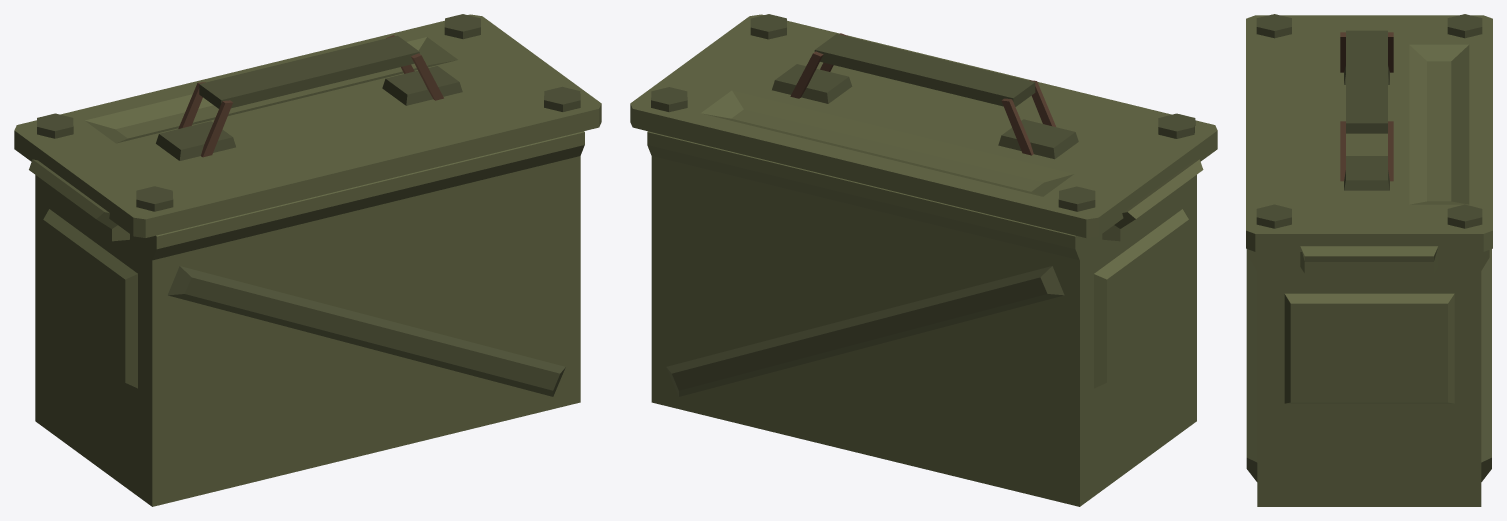
Rendered from SM_Prop_Ammo_Box_Open_01.fbx.
3 views of the same model, side by side, from view 1: azimuth 30°, elevation 25°; view 2: azimuth 150°, elevation 25°; view 3: azimuth 270°, elevation 25° (orthographic). The views are drawn at different scales.
Visible parts, largest first — view 1: SM_Prop_Ammo_Box_Open_01, SM_Prop_Ammo_Box_Open_Lid_01; view 2: SM_Prop_Ammo_Box_Open_01, SM_Prop_Ammo_Box_Open_Lid_01; view 3: SM_Prop_Ammo_Box_Open_01, SM_Prop_Ammo_Box_Open_Lid_01.
Boxes of the visible parts, bbox=[...] form: SM_Prop_Ammo_Box_Open_01: bbox=[29, 131, 584, 506]; SM_Prop_Ammo_Box_Open_Lid_01: bbox=[14, 14, 601, 237]; SM_Prop_Ammo_Box_Open_01: bbox=[647, 131, 1203, 506]; SM_Prop_Ammo_Box_Open_Lid_01: bbox=[630, 14, 1217, 238]; SM_Prop_Ammo_Box_Open_01: bbox=[1246, 246, 1491, 506]; SM_Prop_Ammo_Box_Open_Lid_01: bbox=[1246, 14, 1492, 251].
Size of the model in its own units: 0.4471 by 0.3001 by 0.2033.
1 material, 1 textured.
